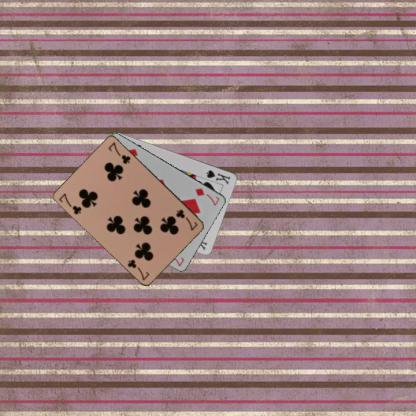7c: (173, 207, 199, 232), (57, 191, 83, 216)
7d: (193, 185, 221, 207)
Ks: (203, 167, 232, 185)
